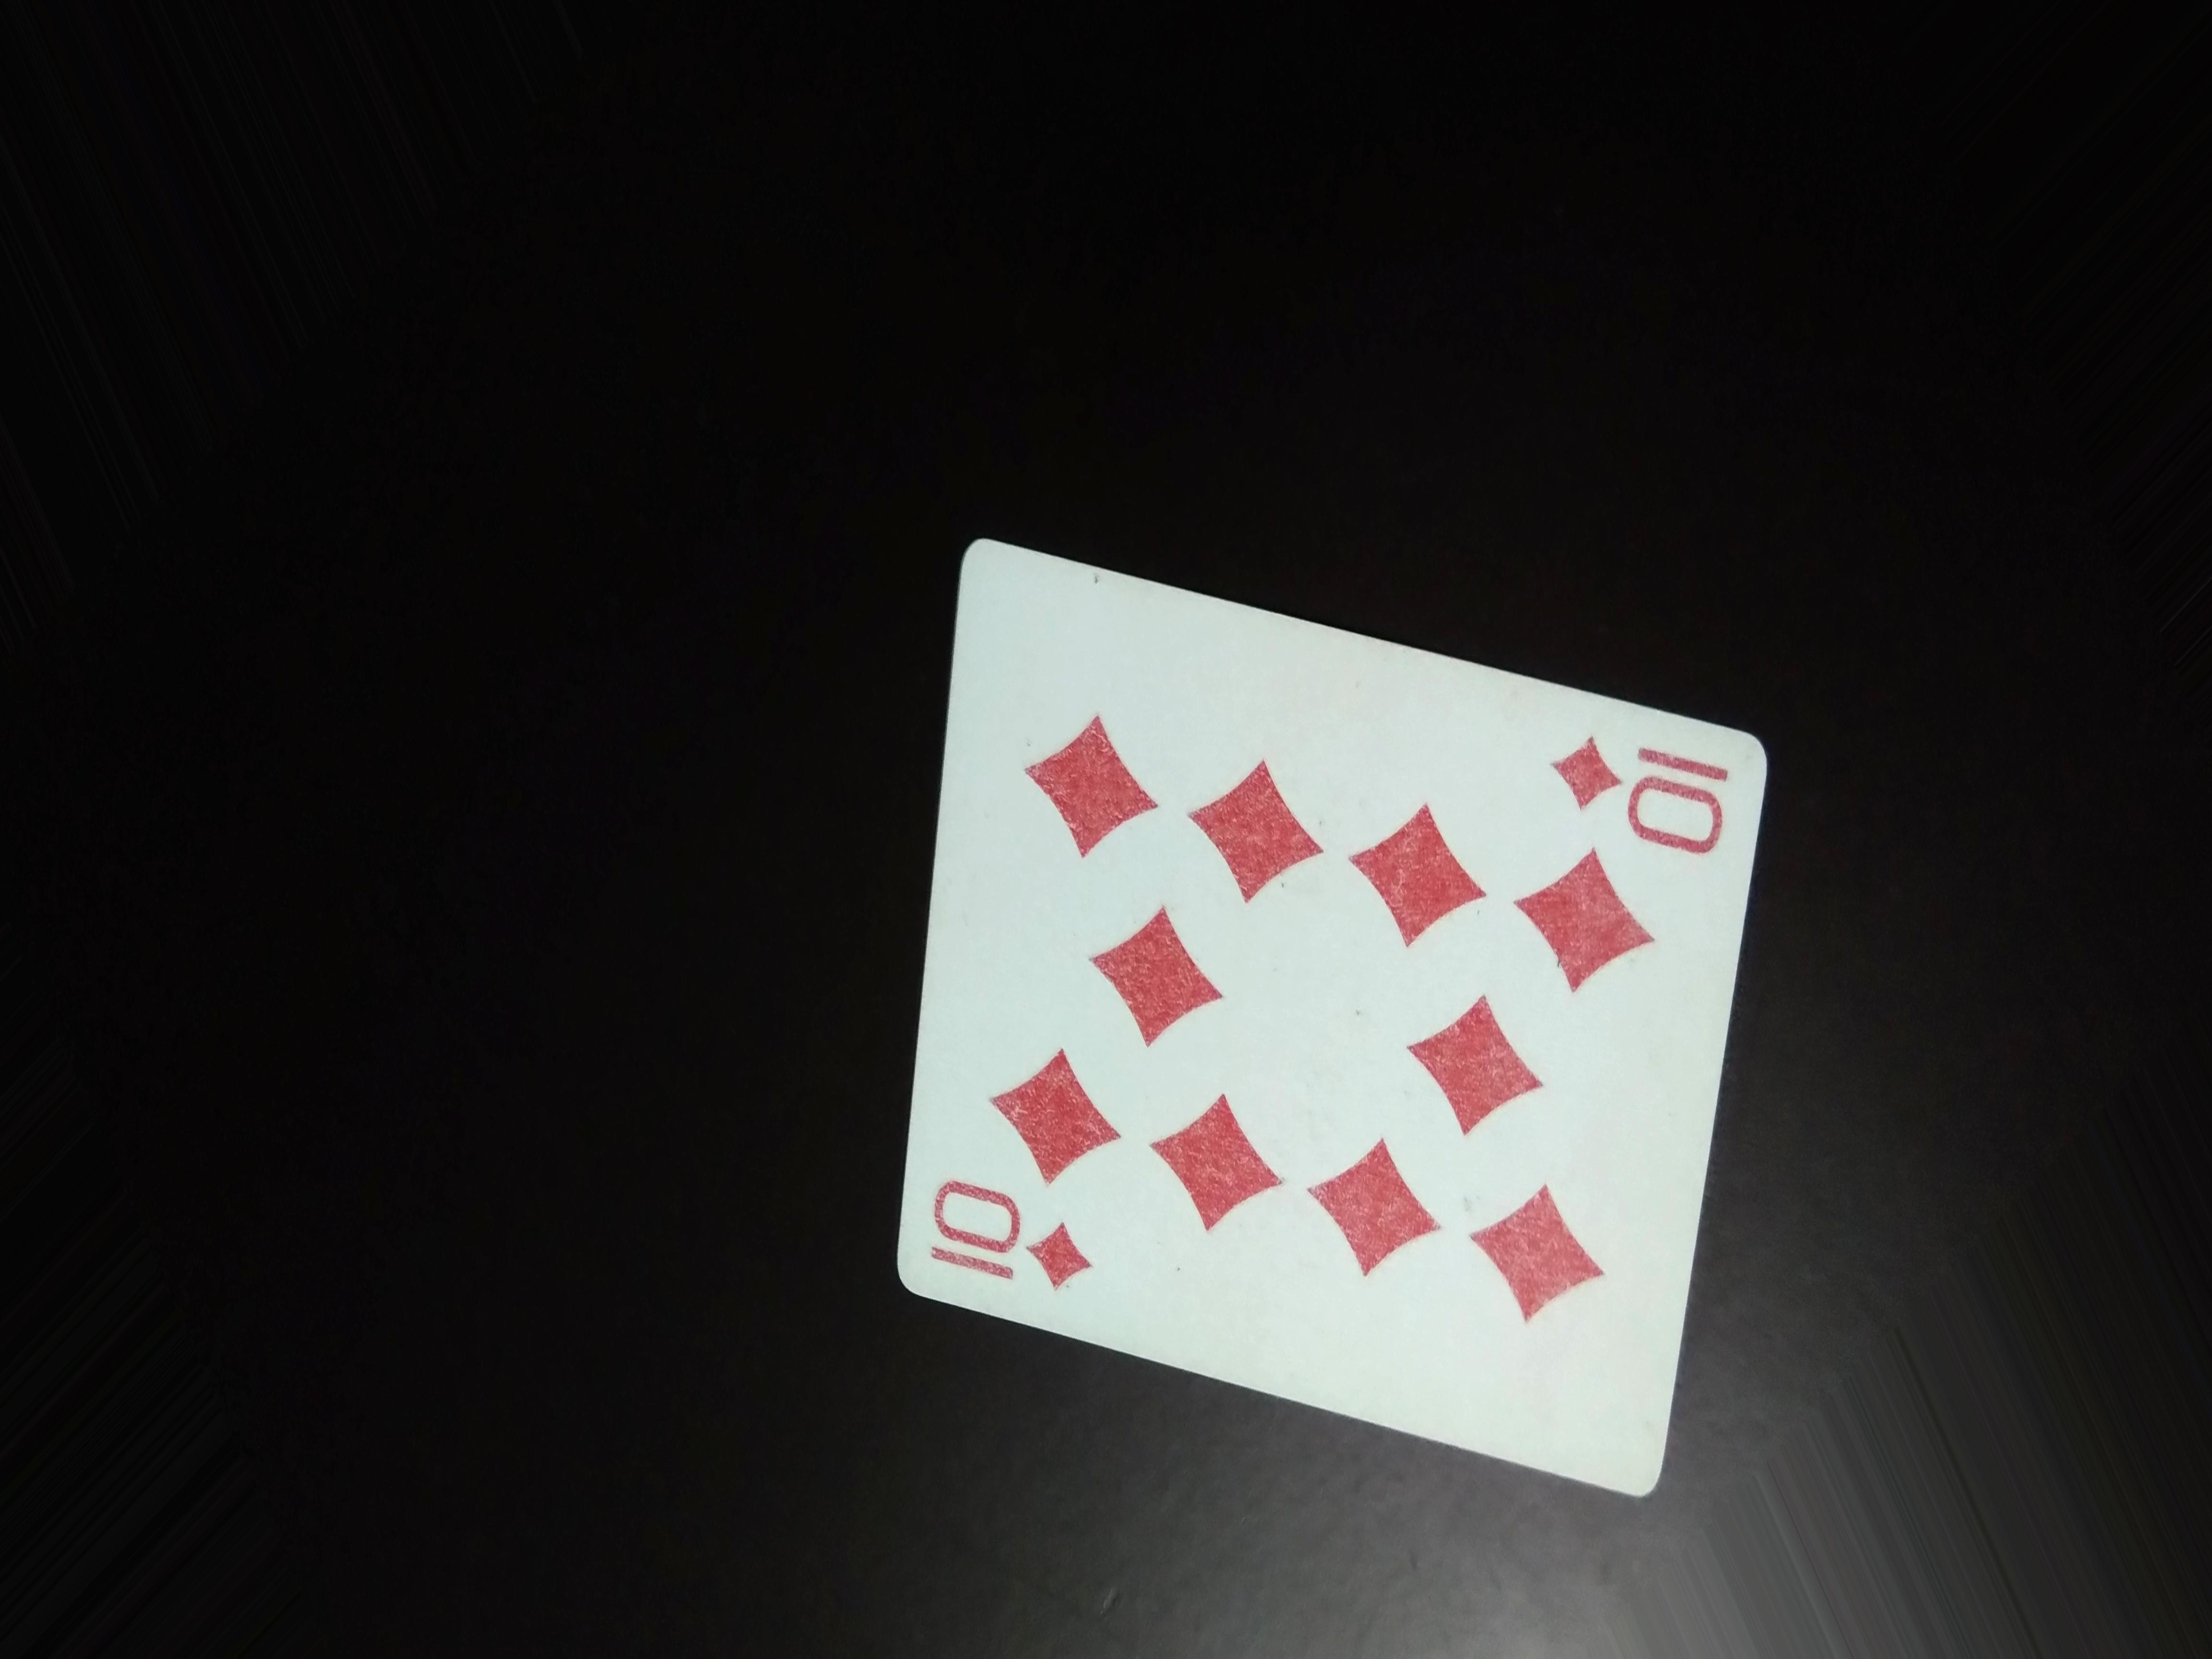10D: (909, 1171, 1113, 1333)
